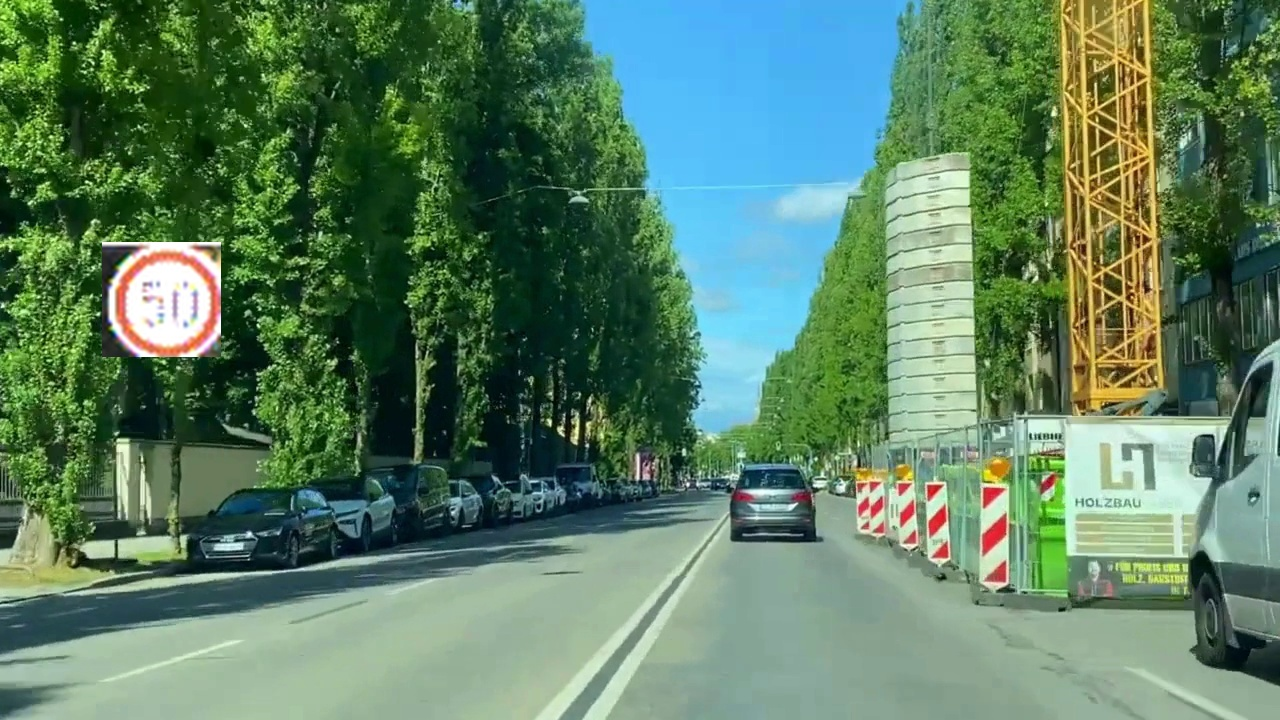Speed 50: (102, 242, 221, 357)
